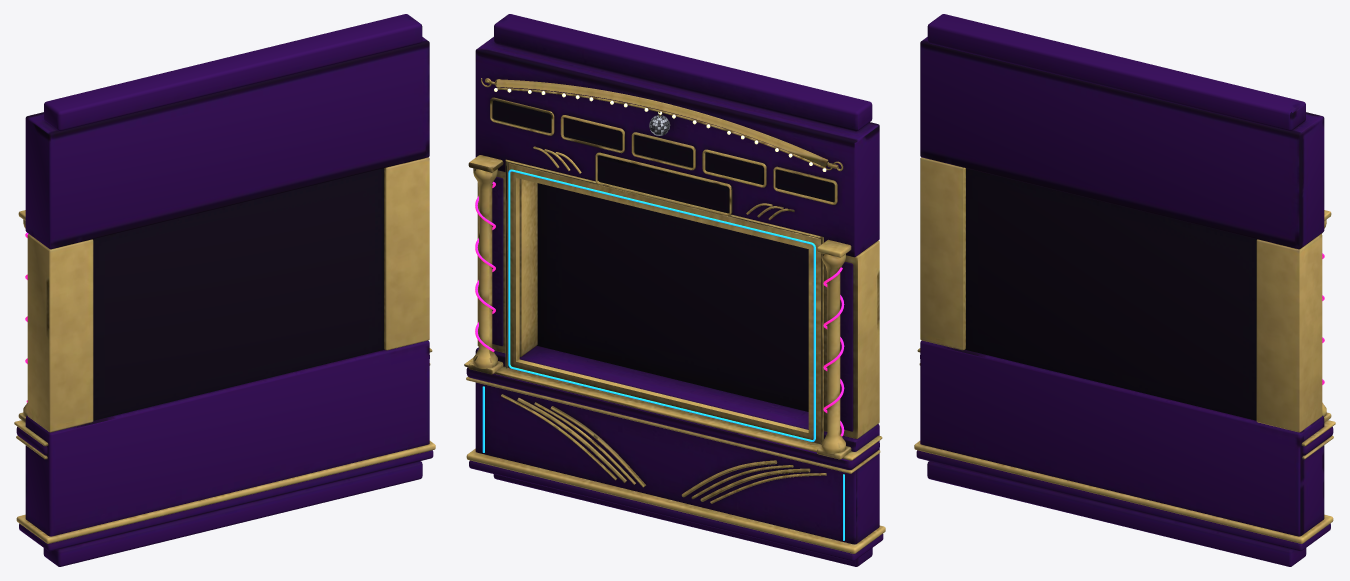
The picture shows the model from 3 angles, left to right: view 1: azimuth 30°, elevation 25°; view 2: azimuth 150°, elevation 25°; view 3: azimuth 330°, elevation 25°; orthographic projection.
Visible parts, largest first — view 1: Royal_purple_velvet, Uniform_plum_inset, Champagne_polished_gold; view 2: Royal_purple_velvet, Uniform_plum_inset, Champagne_polished_gold, Electric_blue_neon_glow, Hot_pink_neon_glow; view 3: Royal_purple_velvet, Uniform_plum_inset, Champagne_polished_gold.
Boxes of the visible parts, <box> form: Royal_purple_velvet: <box>16,14,433,566</box>; Uniform_plum_inset: <box>93,168,384,420</box>; Champagne_polished_gold: <box>14,157,435,543</box>; Royal_purple_velvet: <box>466,14,883,566</box>; Uniform_plum_inset: <box>492,100,834,411</box>; Champagne_polished_gold: <box>464,78,885,553</box>; Electric_blue_neon_glow: <box>482,169,844,540</box>; Hot_pink_neon_glow: <box>475,181,844,436</box>; Royal_purple_velvet: <box>916,14,1333,566</box>; Uniform_plum_inset: <box>965,168,1256,420</box>; Champagne_polished_gold: <box>914,157,1335,543</box>.
Size of the model in its own units: 9.12 by 10.2 by 1.56.
Materials: 7 (4 with a texture image).
